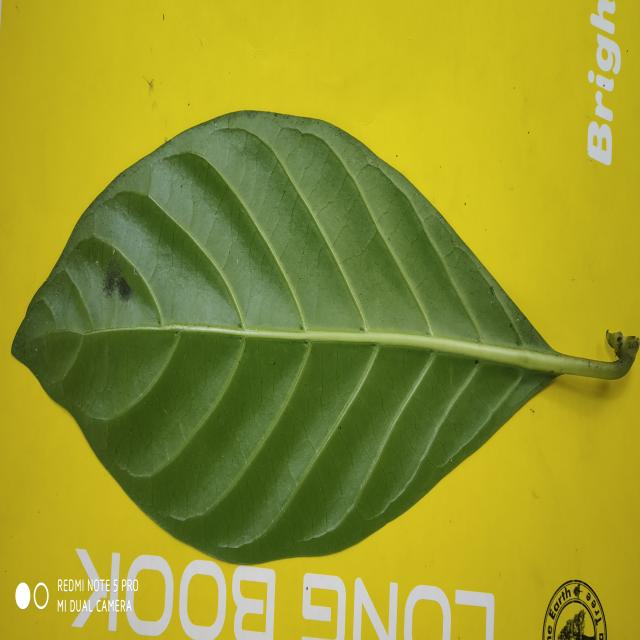nooni: (12, 111, 638, 564)
